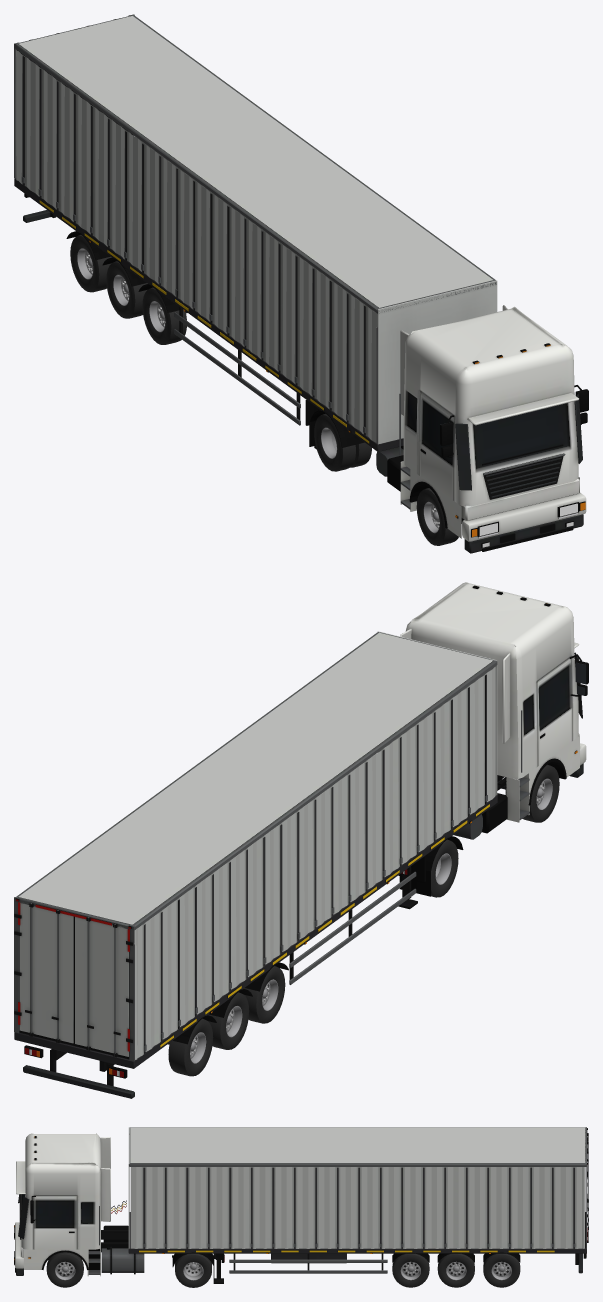
The model's file is sattel.glb.
3 views of the same model, one above another, from view 1: azimuth 30°, elevation 25°; view 2: azimuth 150°, elevation 25°; view 3: azimuth 270°, elevation 25° (orthographic). The views are drawn at different scales.
Visible parts, largest first — view 1: koerper, rad_hr2_gummi, rad_hr_gummi, rad_hr4_gummi, rad_hr3_gummi, rad_vr_gummi; view 2: koerper, rad_hr4_gummi, rad_hr2_gummi, rad_hr3_gummi, rad_vr_gummi, rad_hr_gummi; view 3: koerper, rad_vl_gummi, rad_hl3_gummi, rad_hl2_gummi, rad_hl4_gummi, rad_hl_gummi, rad_hl_metall, rad_hl4_metall, rad_hl2_metall, rad_hl3_metall, rad_vl_metall.
Boxes of the visible parts, <box> form: koerper: <box>14,14,588,553</box>; rad_hr2_gummi: <box>142,287,186,344</box>; rad_hr_gummi: <box>314,413,355,471</box>; rad_hr4_gummi: <box>70,234,111,292</box>; rad_hr3_gummi: <box>106,261,147,318</box>; rad_vr_gummi: <box>416,488,458,545</box>; koerper: <box>14,582,588,1098</box>; rad_hr4_gummi: <box>168,1018,213,1076</box>; rad_hr2_gummi: <box>243,966,285,1023</box>; rad_hr3_gummi: <box>207,992,249,1049</box>; rad_vr_gummi: <box>522,764,559,822</box>; rad_hr_gummi: <box>431,839,458,897</box>; koerper: <box>14,1127,588,1283</box>; rad_vl_gummi: <box>46,1252,83,1287</box>; rad_hl3_gummi: <box>437,1253,474,1287</box>; rad_hl2_gummi: <box>392,1253,429,1287</box>; rad_hl4_gummi: <box>483,1253,520,1287</box>; rad_hl_gummi: <box>175,1253,211,1287</box>; rad_hl_metall: <box>183,1262,203,1280</box>; rad_hl4_metall: <box>491,1261,511,1280</box>; rad_hl2_metall: <box>400,1261,420,1280</box>; rad_hl3_metall: <box>446,1261,466,1280</box>; rad_vl_metall: <box>55,1261,75,1280</box>.
Bounding box in the file's own units: 3.1 × 3.98 × 16.58.
Materials: 3 (1 with a texture image).
